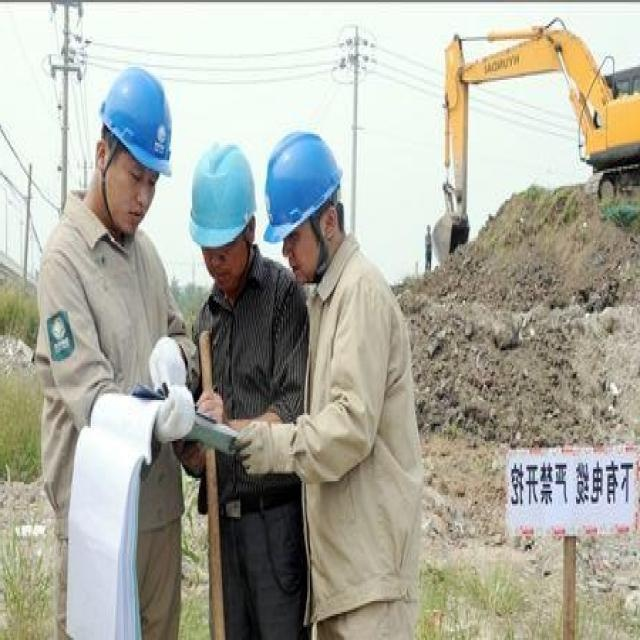Con_Casco: (262, 132, 345, 283), (189, 145, 253, 284)
